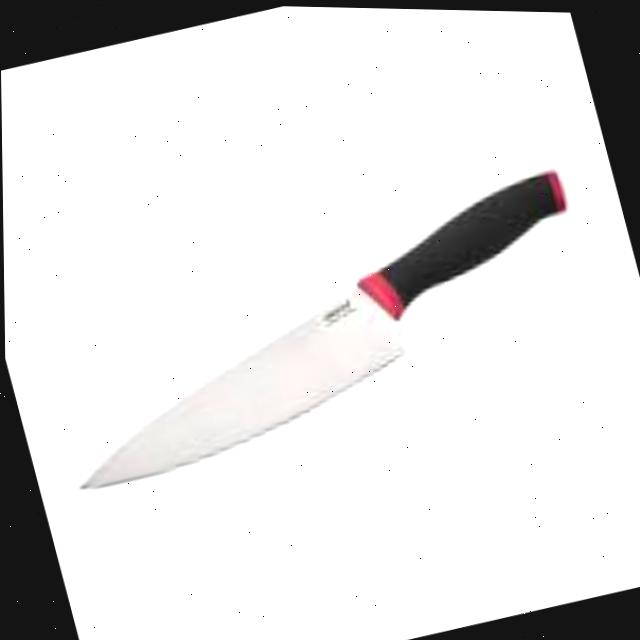Knife: (20, 153, 611, 502)
